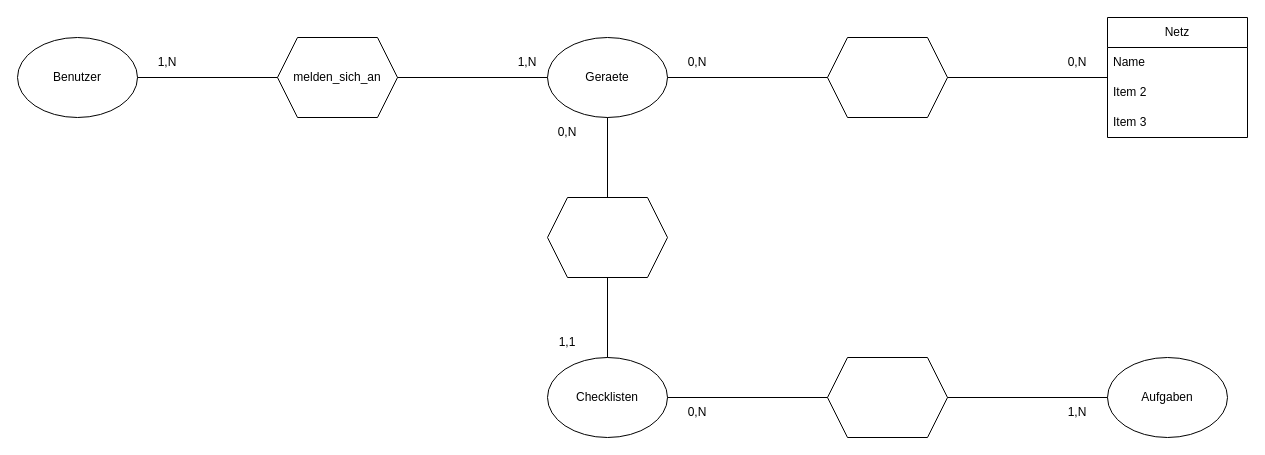
Image size: 1265x455. Some labels were removed from this diagram. The shapes that lost their labels are listed below. From the top down, each one's centre as x and y in pixels, then its label:
point 887,77: nimmt_teil
point 607,237: erfüllt
point 887,397: besteht_aus
